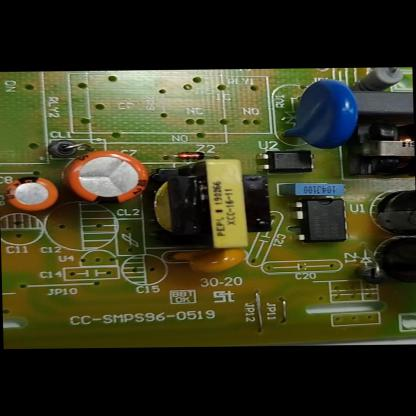Cap1: (59, 141, 157, 211)
Cap2: (0, 171, 65, 215)
Cap3: (364, 184, 416, 238)
Cap4: (356, 230, 416, 292)
MOSFET: (287, 192, 355, 245)
Mov: (277, 76, 363, 155)
Resistor: (358, 67, 405, 95)
Transformer: (137, 152, 274, 256), (339, 120, 415, 181)
